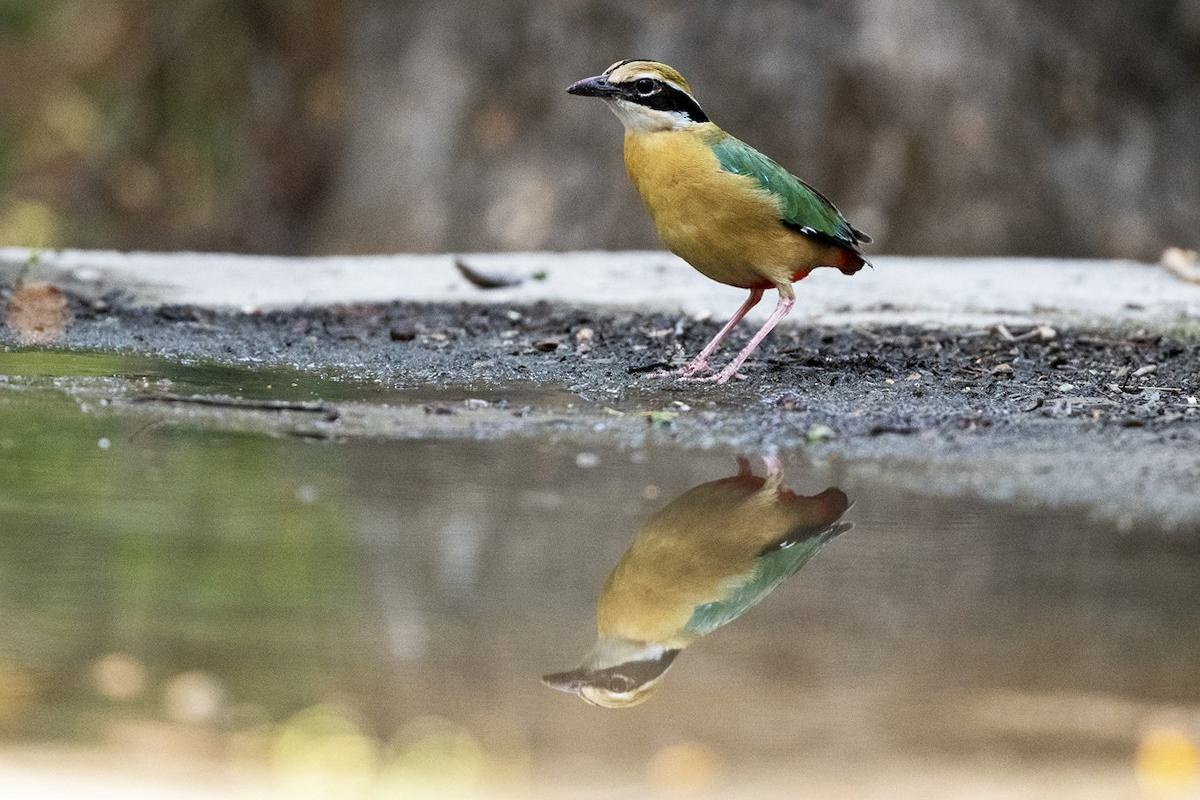pitta: (561, 27, 874, 358)
